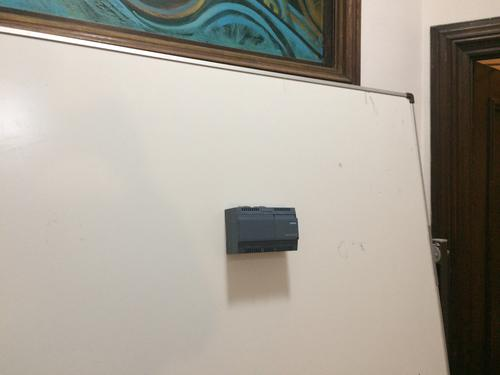iot2000: (223, 204, 300, 255)
